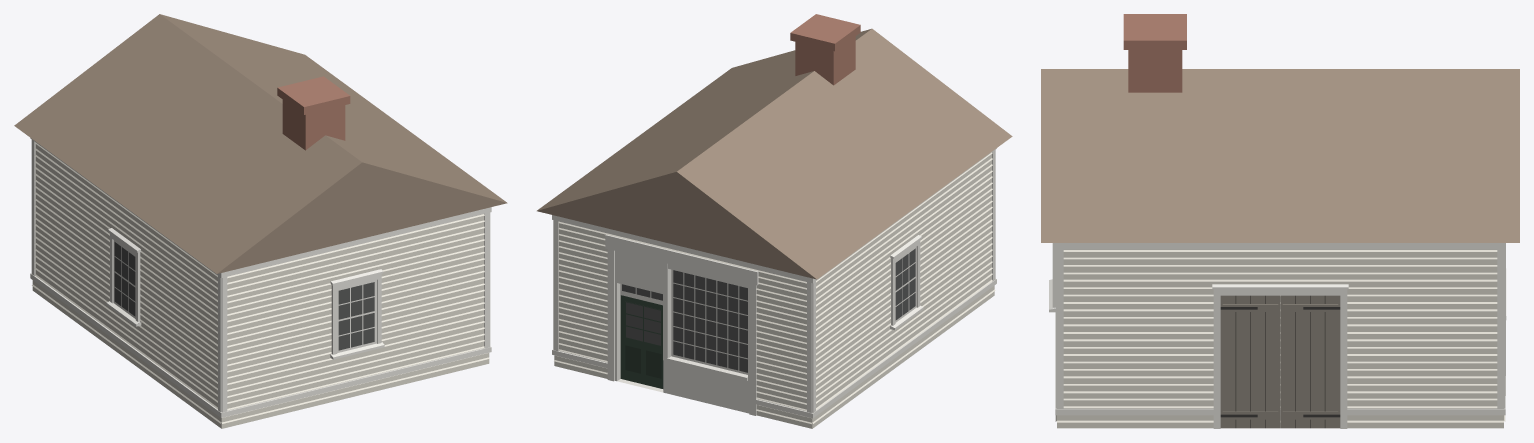
File: recon_1835_core_c1_044__inferred_1835.glb
3 renders of one model, left to right at view 1: azimuth 30°, elevation 25°; view 2: azimuth 150°, elevation 25°; view 3: azimuth 270°, elevation 25°, orthographic. The views are drawn at different scales.
Visible parts, largest first — view 1: recon_1835_core_c1_044__inferred_1835; view 2: recon_1835_core_c1_044__inferred_1835; view 3: recon_1835_core_c1_044__inferred_1835.
Boxes of the visible parts, <box> form: recon_1835_core_c1_044__inferred_1835: <box>14,14,507,428</box>; recon_1835_core_c1_044__inferred_1835: <box>537,14,1012,428</box>; recon_1835_core_c1_044__inferred_1835: <box>1041,14,1519,428</box>.
Size of the model in its own units: 6.16 by 5.54 by 7.43.
